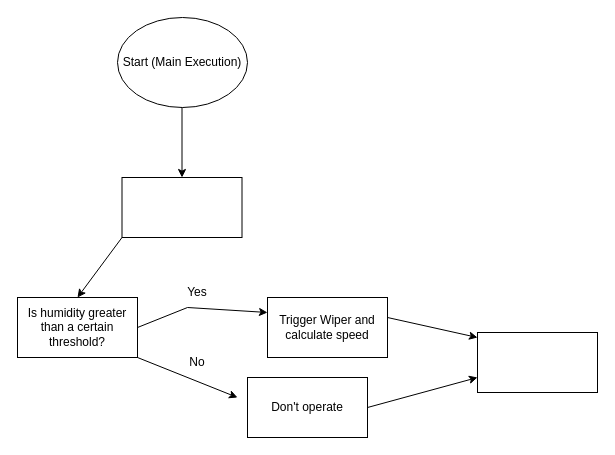
Image size: 615x455. Some labels were removed from this diagram. The shapes that lost their labels are listed below. From the top down, each one's centre as x and y in pixels, then its label:
(x=181, y=207): Generate Random Humidity Value
(x=537, y=362): Wait / Loop
